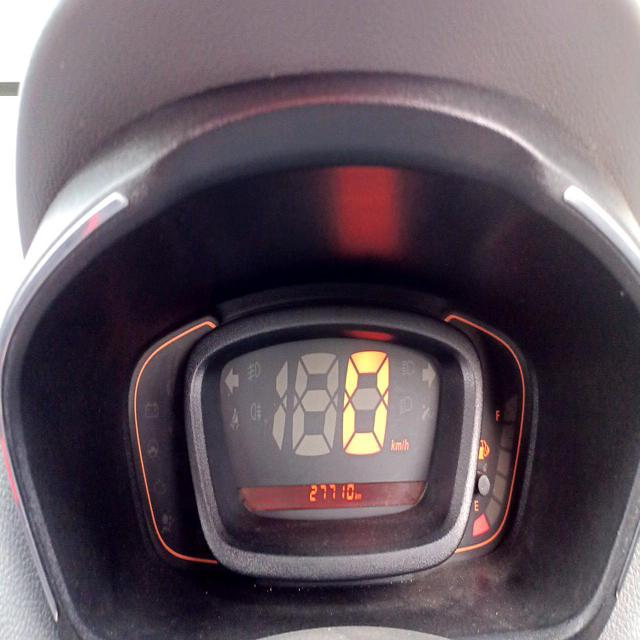odometer: (309, 476, 356, 508)
